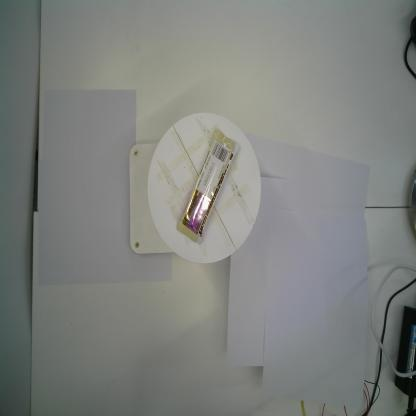Chocolate: (175, 126, 241, 246)
